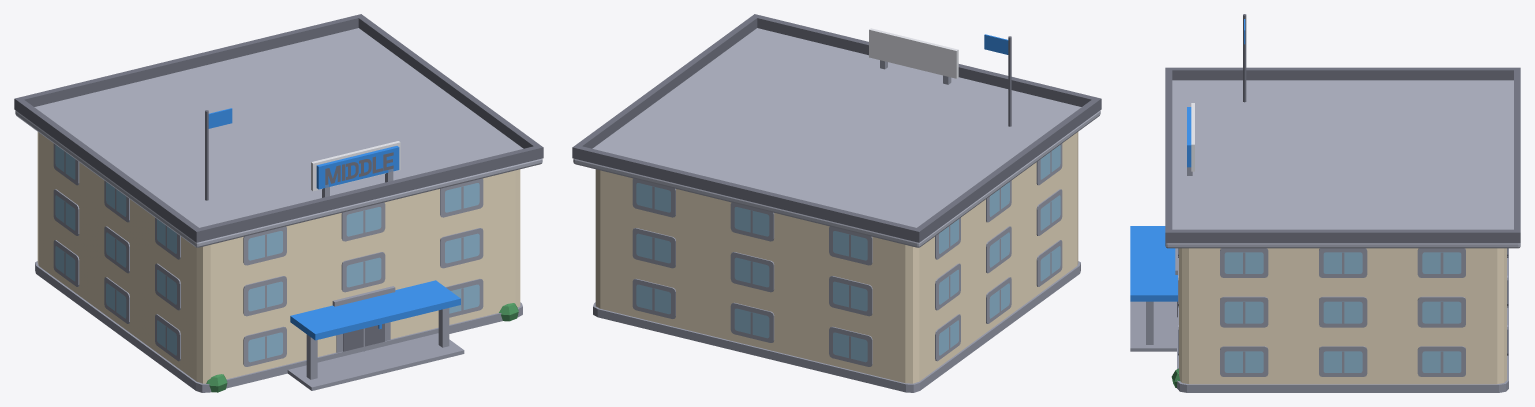
Rendered from middle-school-2x2-3f.glb.
3 renders of one model, left to right at view 1: azimuth 30°, elevation 25°; view 2: azimuth 150°, elevation 25°; view 3: azimuth 270°, elevation 25°, orthographic. The views are drawn at different scales.
Parts seen in each view (by area): view 1: middle-school-2x2-3f; view 2: middle-school-2x2-3f; view 3: middle-school-2x2-3f.
Part boxes in pixels (x1,y1,x2,y2): middle-school-2x2-3f: (14, 14, 543, 392); middle-school-2x2-3f: (572, 14, 1101, 392); middle-school-2x2-3f: (1130, 14, 1520, 392).
Bounding box in the file's own units: 2 × 1.37 × 2.
Materials: 1 (1 with a texture image).
